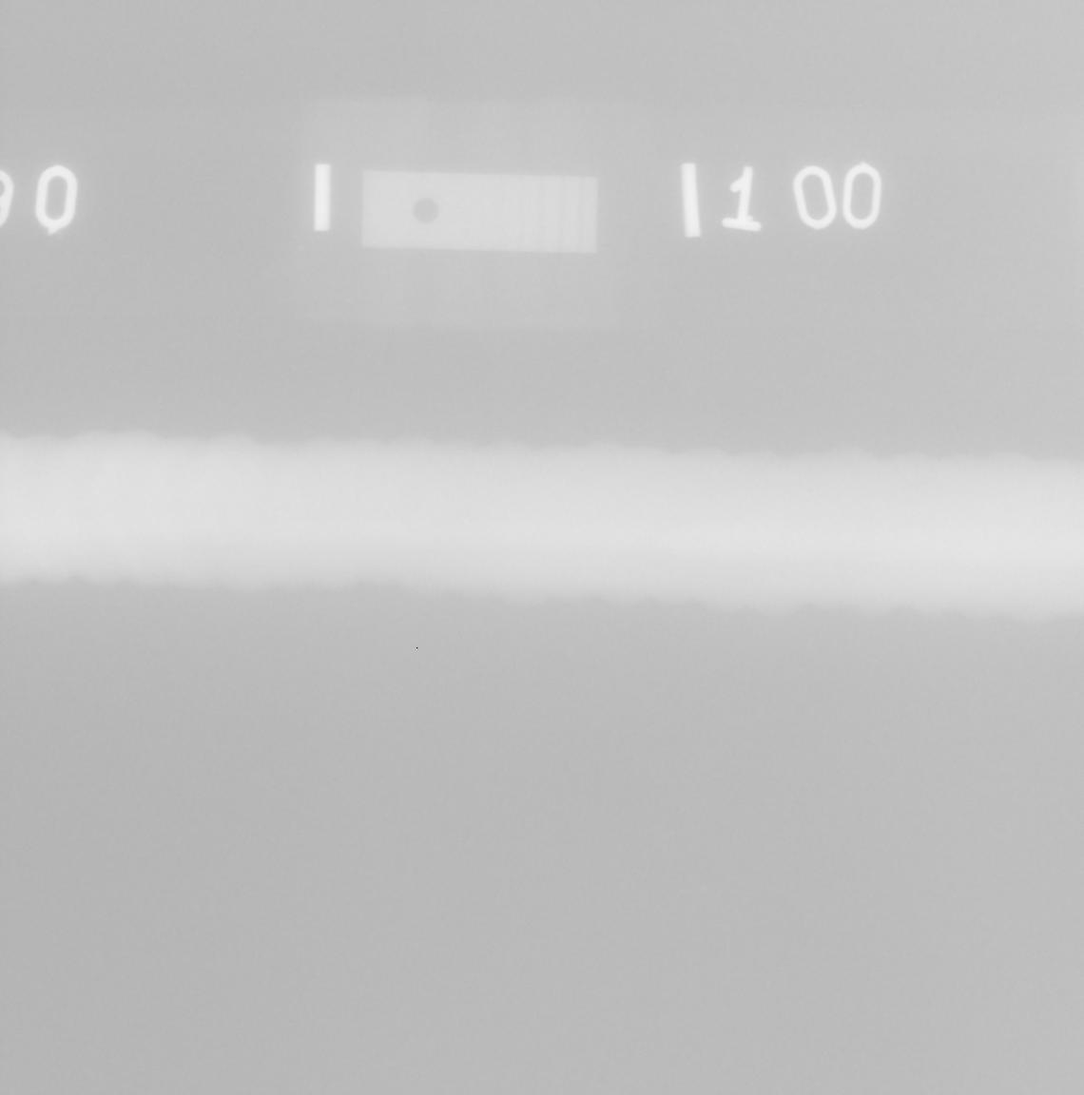Reference Standard 1: (361, 170, 598, 254)
